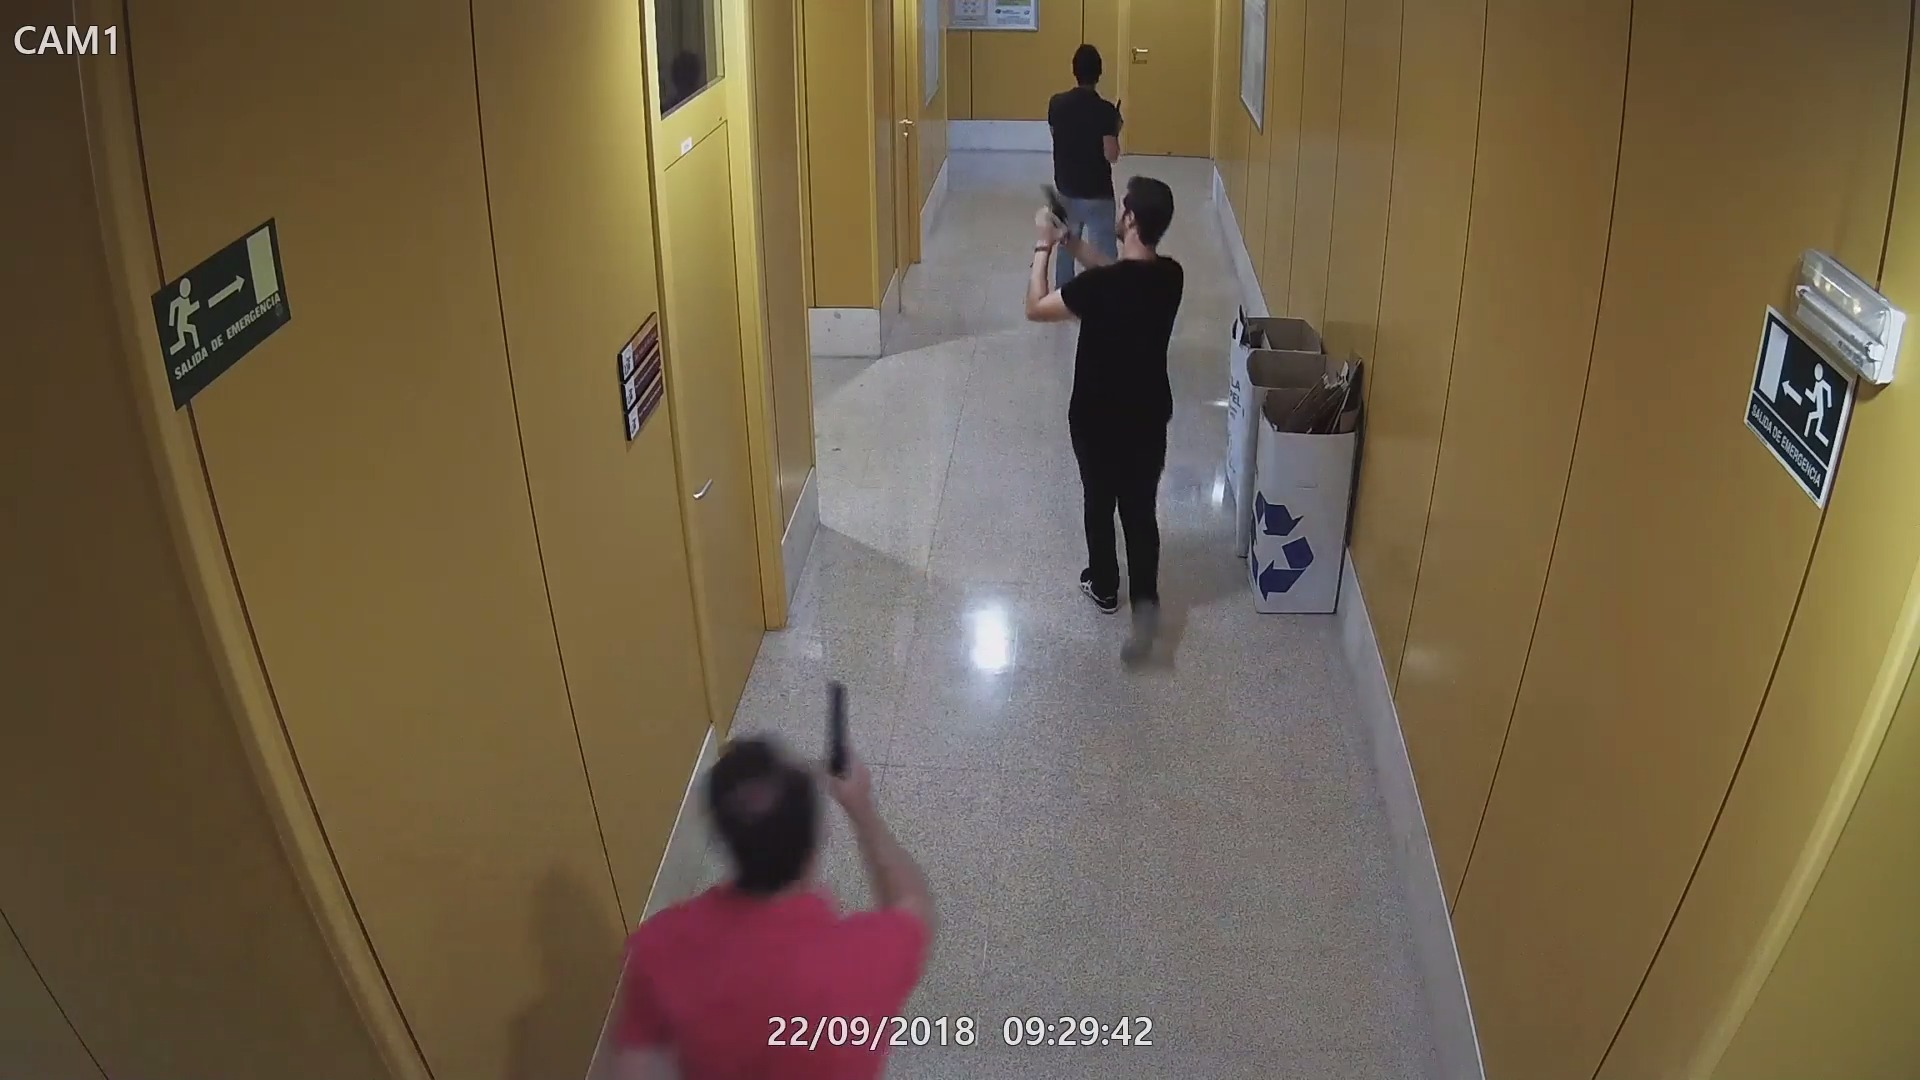Handgun: (818, 671, 876, 808), (1030, 178, 1073, 247), (1110, 91, 1125, 113)
